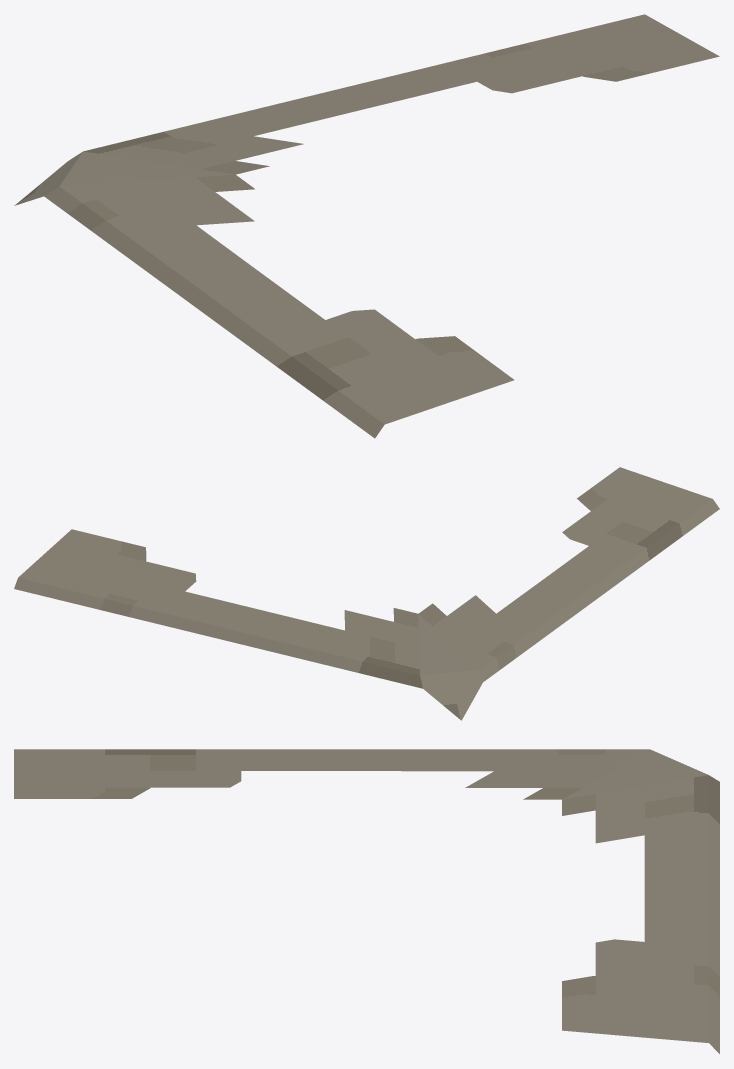
3 renders of one model, top to bottom at view 1: azimuth 30°, elevation 25°; view 2: azimuth 150°, elevation 25°; view 3: azimuth 270°, elevation 25°, orthographic. The views are drawn at different scales.
Size of the model in its own units: 1 by 0.0857 by 1.
1 material, 1 textured.
